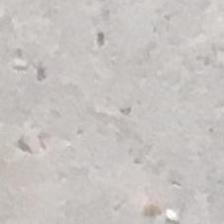Non_Crack: (32, 38, 204, 201)
